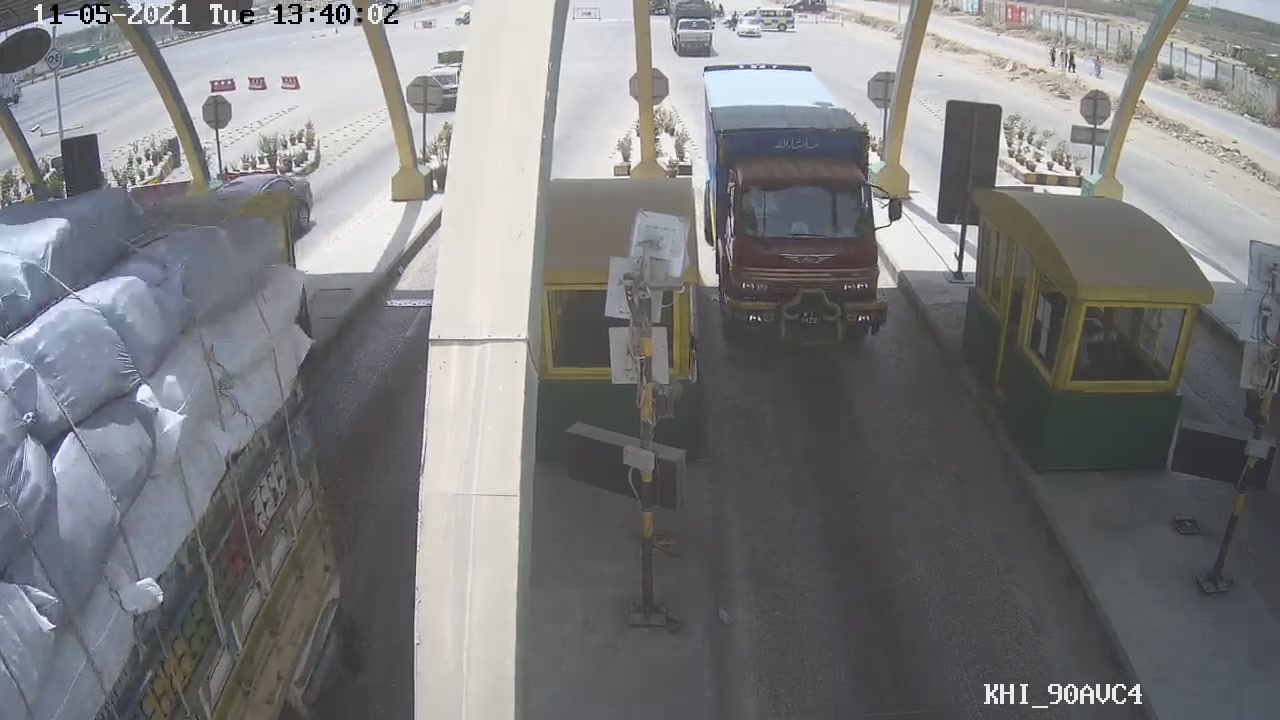F3: (698, 56, 904, 353)
